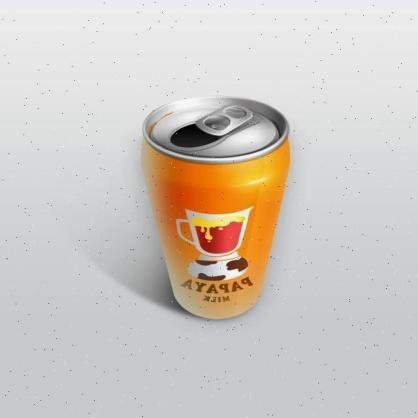can: (140, 90, 292, 321)
